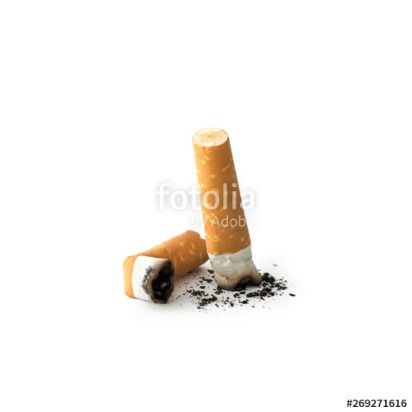cigarette: (190, 125, 260, 297), (120, 227, 205, 307)
